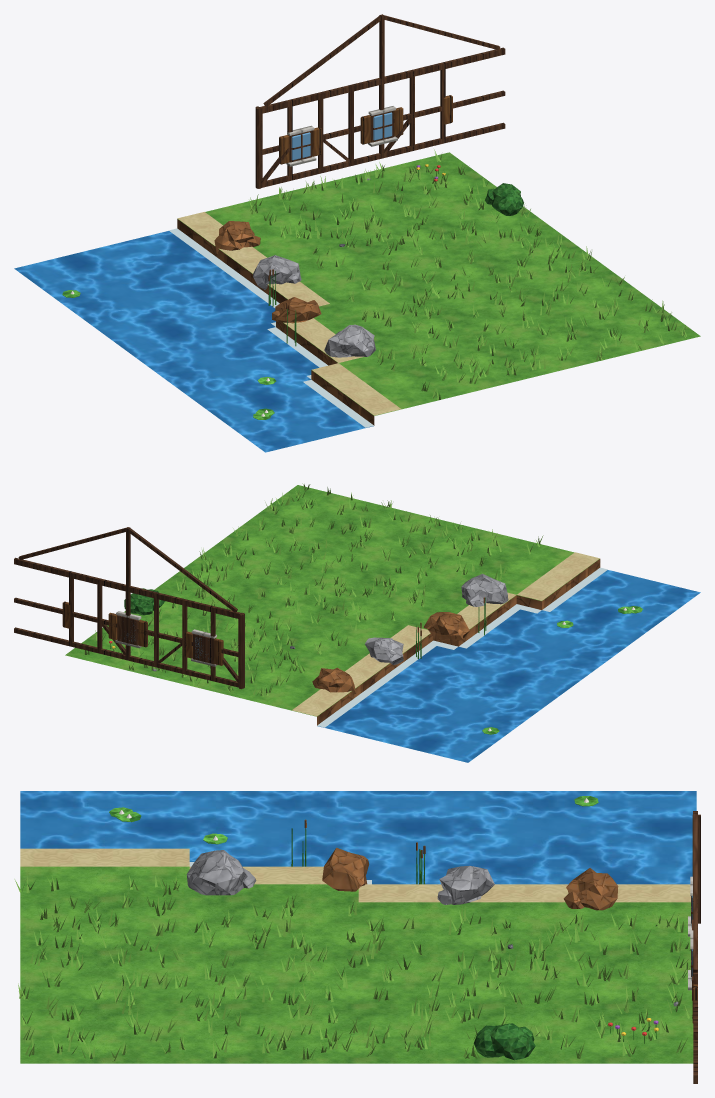
File: chunk_4_13.glb
3 renders of one model, top to bottom at view 1: azimuth 30°, elevation 25°; view 2: azimuth 150°, elevation 25°; view 3: azimuth 270°, elevation 25°, orthographic. The views are drawn at different scales.
Visible parts, largest first — view 1: chunk_4_13; view 2: chunk_4_13; view 3: chunk_4_13.
Part boxes in pixels (x1,y1,x2,y2): chunk_4_13: (14,14,700,452); chunk_4_13: (14,483,700,762); chunk_4_13: (14,791,700,1083).
Size of the model in its own units: 18 by 5.92 by 16.25.
21 materials, 14 textured.
